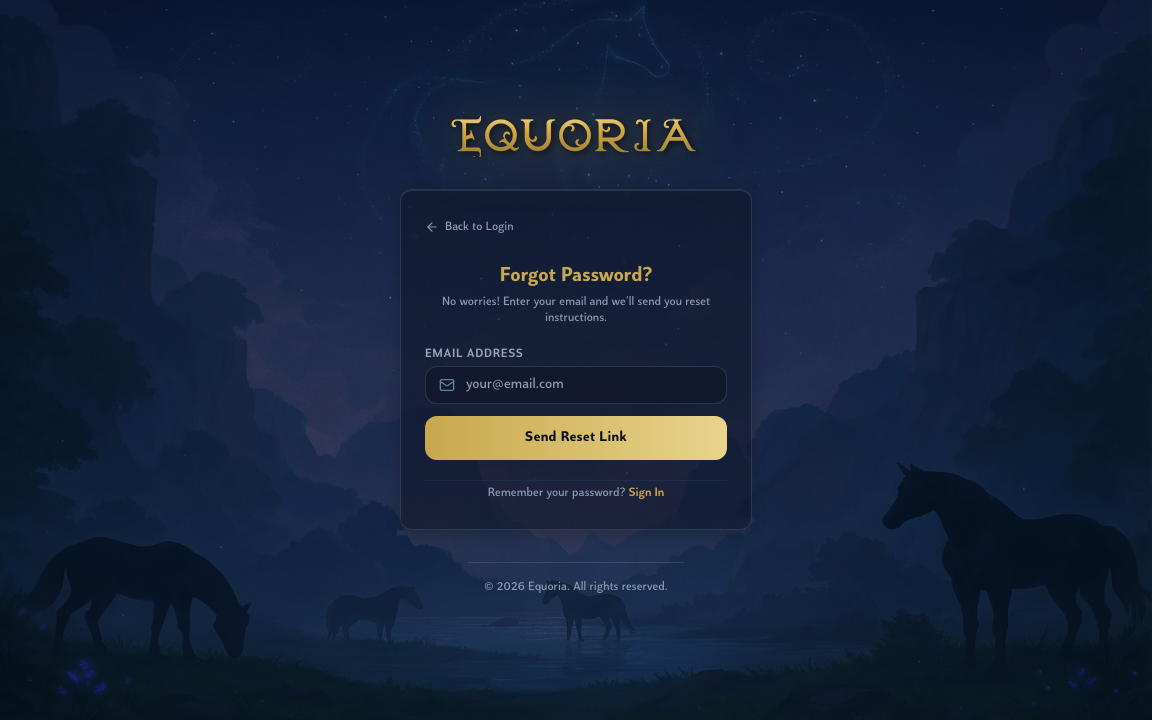
Test case: ForgotPasswordPage › Loading State › shows loading state while submitting
Type "test@example.com" into the field with placeholder "your@email.com" at [576, 385], box [425, 366, 727, 404]
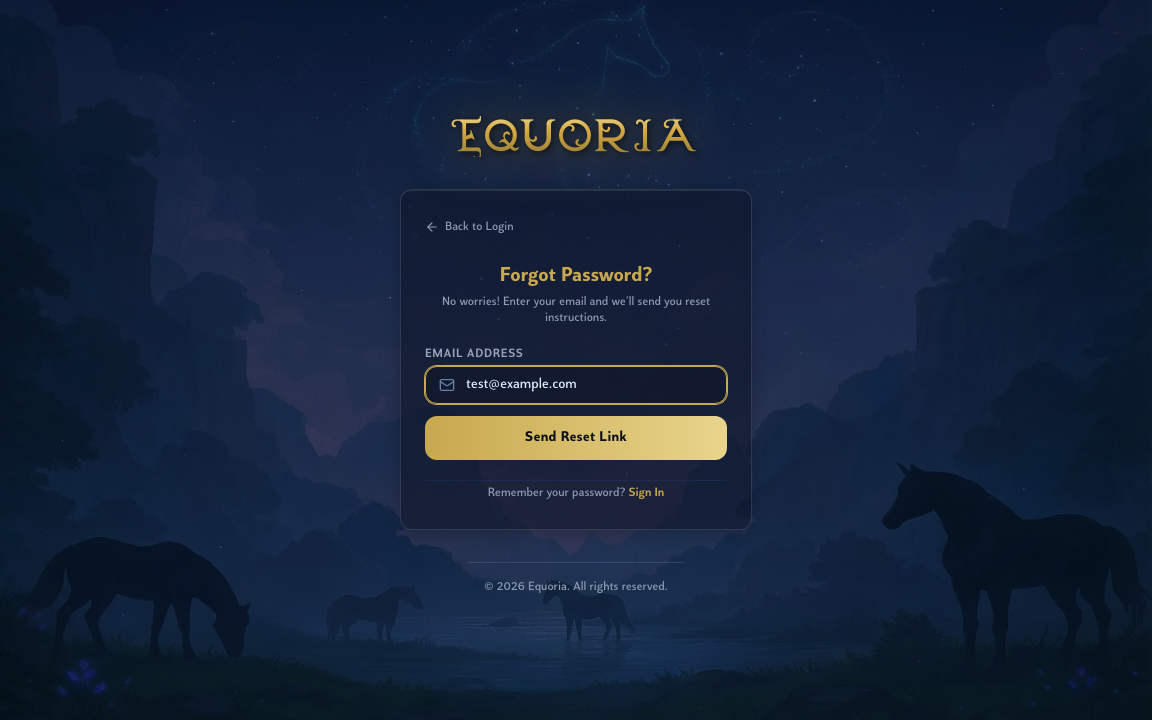
Click the button "Send Reset Link" at [576, 438], box [425, 416, 727, 460]
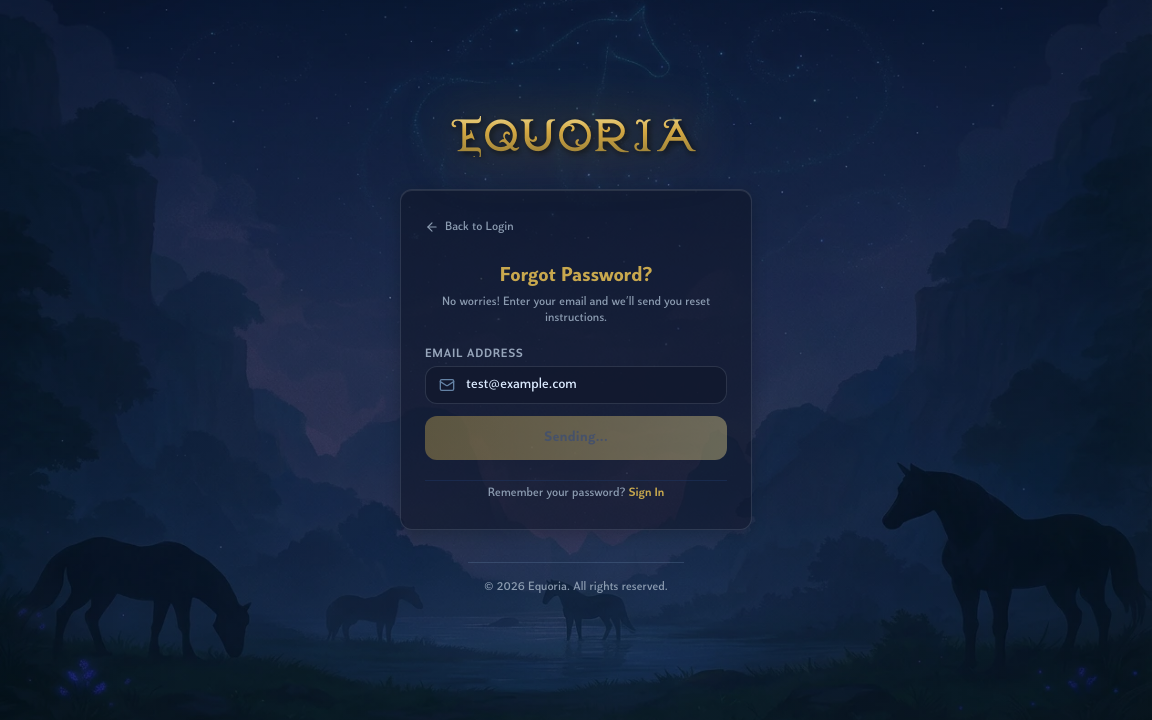
expect the button "Sending..." is disabled: met, box [425, 416, 727, 460]
